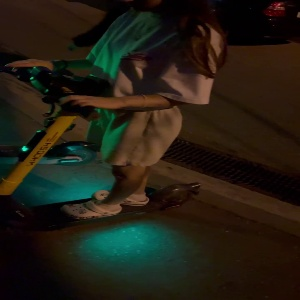human on a scooter: (1, 1, 229, 238)
